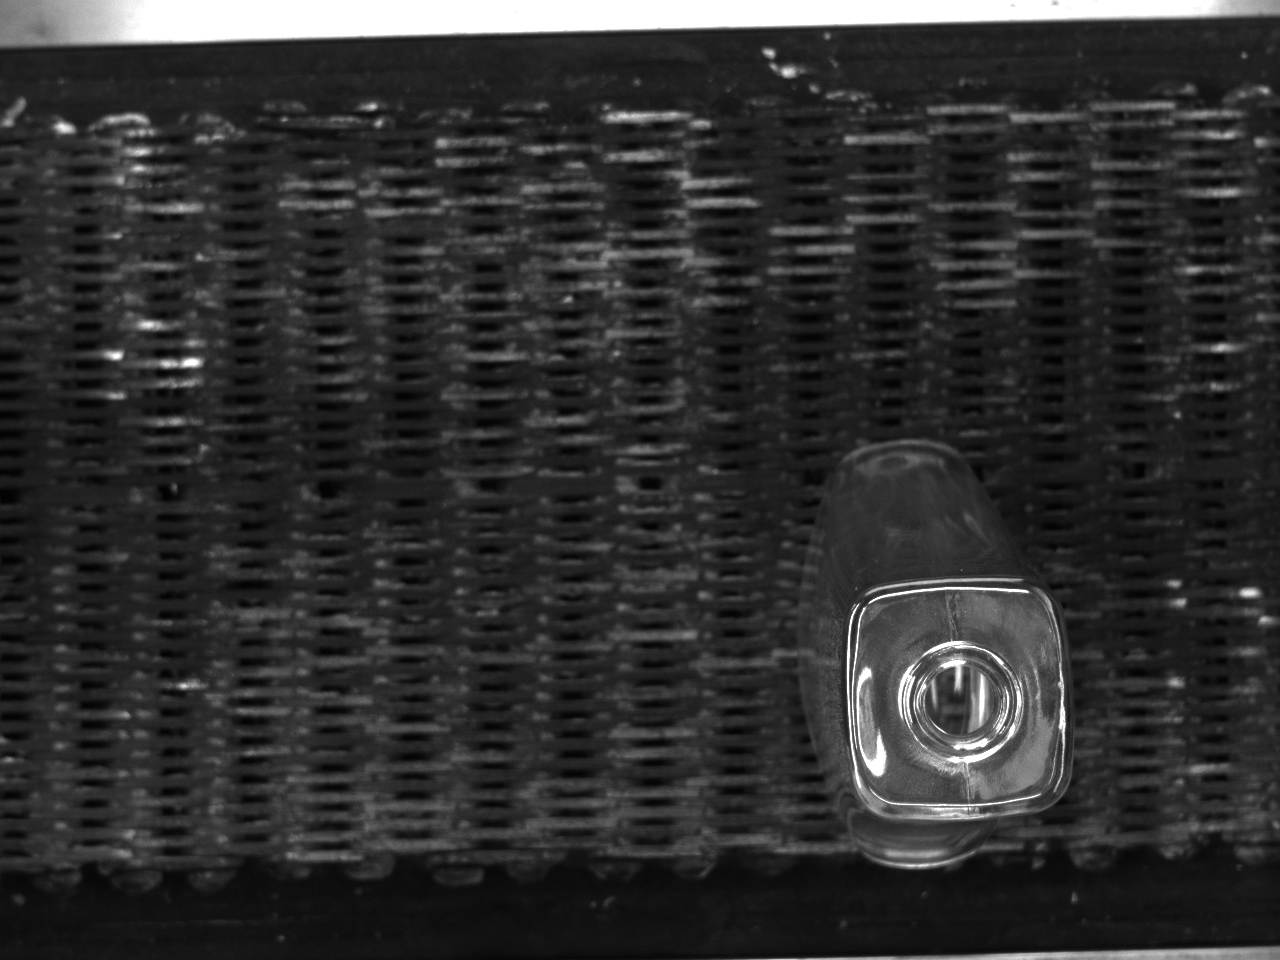bottleneck: (904, 643, 1026, 760)
